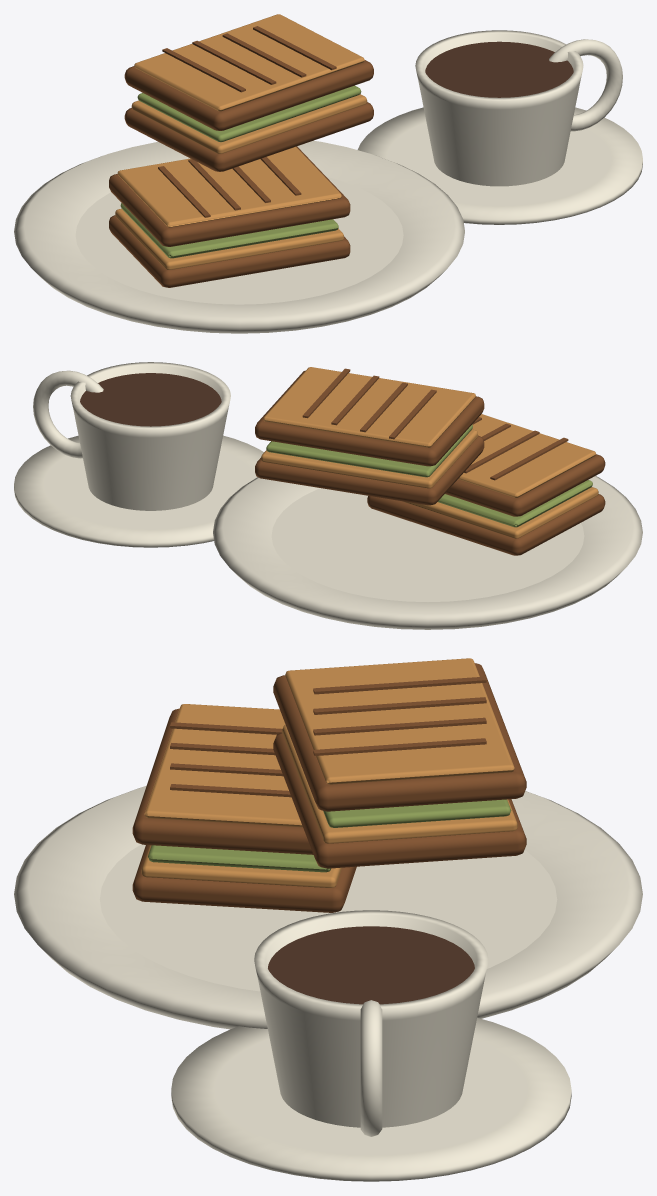
3 renders of one model, top to bottom at view 1: azimuth 30°, elevation 25°; view 2: azimuth 150°, elevation 25°; view 3: azimuth 270°, elevation 25°, orthographic. The views are drawn at different scales.
Parts seen in each view (by area): view 1: Toast, Plate, Coffee; view 2: Plate, Toast, Coffee; view 3: Coffee, Toast, Plate.
Boxes of the visible parts, <box> form: Toast: <box>109,14,373,287</box>; Plate: <box>14,140,464,333</box>; Coffee: <box>357,30,642,224</box>; Plate: <box>213,476,642,629</box>; Toast: <box>255,367,605,555</box>; Coffee: <box>14,362,263,547</box>; Coffee: <box>171,910,571,1181</box>; Toast: <box>132,658,526,912</box>; Plate: <box>14,785,642,1029</box>.
Size of the model in its own units: 0.335 by 0.0905 by 0.22.
